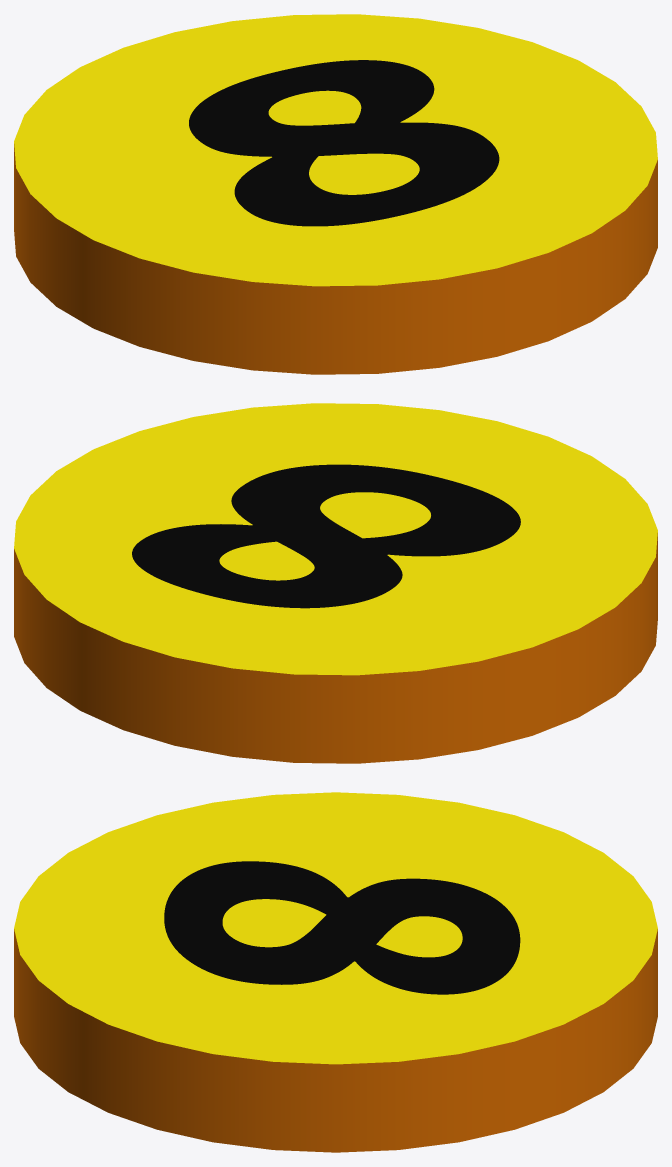
Rendered from eight.fbx.
3 views of the same model, one above another, from view 1: azimuth 30°, elevation 25°; view 2: azimuth 150°, elevation 25°; view 3: azimuth 270°, elevation 25° (orthographic).
Parts seen in each view (by area): view 1: ทรงกระบอก.009, ช้อความ.009; view 2: ทรงกระบอก.009, ช้อความ.009; view 3: ทรงกระบอก.009, ช้อความ.009.
Boxes of the visible parts, <box> form: ทรงกระบอก.009: <box>14,14,657,374</box>; ช้อความ.009: <box>189,60,499,226</box>; ทรงกระบอก.009: <box>14,403,657,763</box>; ช้อความ.009: <box>132,464,520,608</box>; ทรงกระบอก.009: <box>14,792,657,1152</box>; ช้อความ.009: <box>164,861,520,994</box>.
Size of the model in its own units: 200 by 31.22 by 200.
